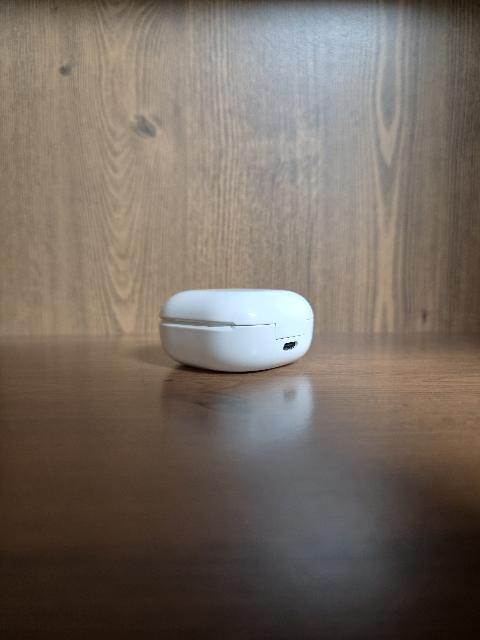earphone_case: (158, 289, 314, 372)
